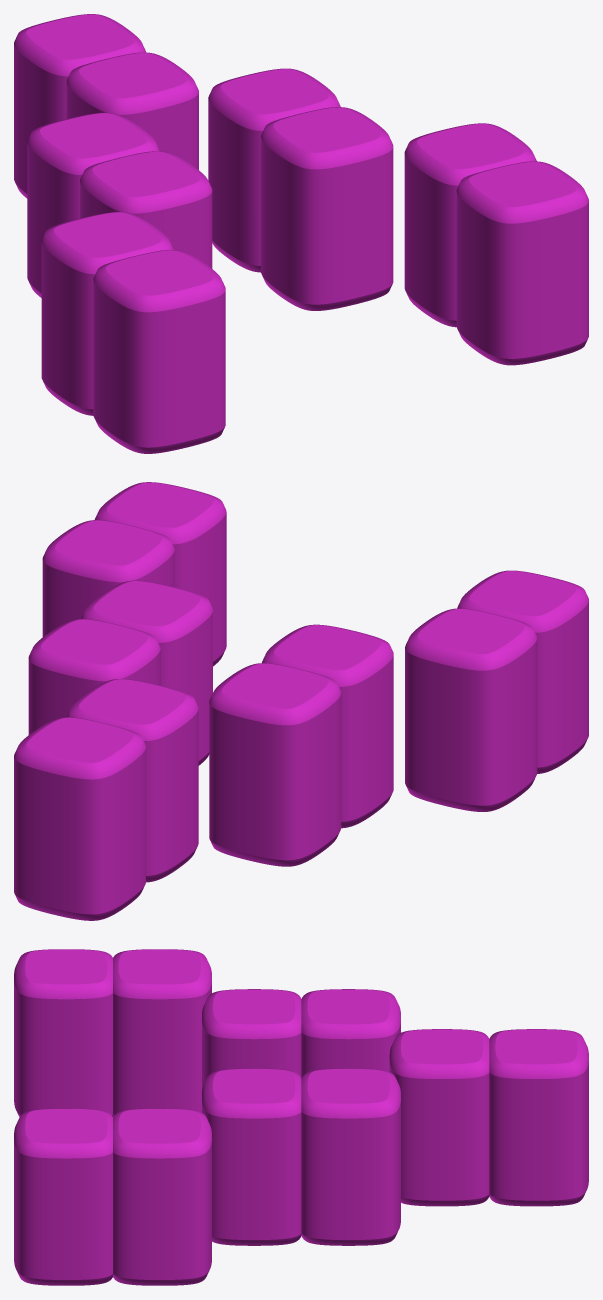
The model's file is Letter_V.fbx.
3 renders of one model, top to bottom at view 1: azimuth 30°, elevation 25°; view 2: azimuth 150°, elevation 25°; view 3: azimuth 270°, elevation 25°, orthographic. The views are drawn at different scales.
Parts seen in each view (by area): view 1: Letter_V; view 2: Letter_V; view 3: Letter_V.
Boxes of the visible parts, left/top/right/bottom form: Letter_V: left=14, top=14, right=588, bottom=453; Letter_V: left=14, top=482, right=588, bottom=920; Letter_V: left=14, top=949, right=588, bottom=1285.
Bounding box in the file's own units: 0.4311 × 0.14 × 0.5146.
